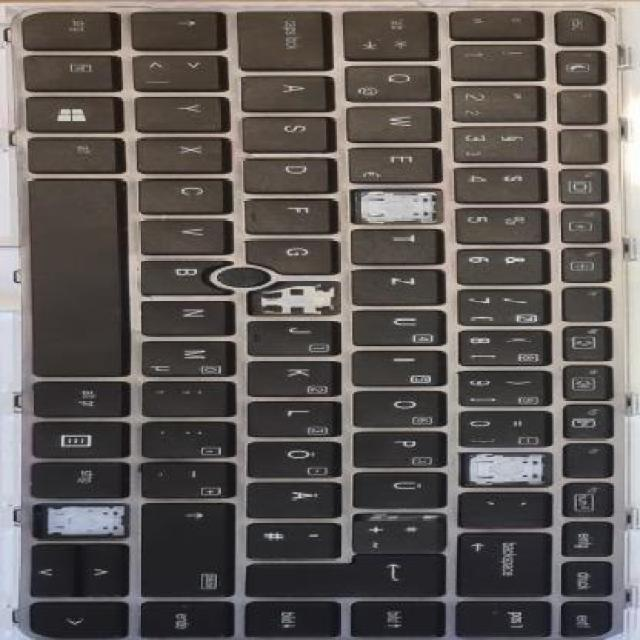Keyboard problems: (354, 189, 438, 223), (249, 282, 338, 314), (463, 452, 549, 485), (40, 505, 126, 535)
